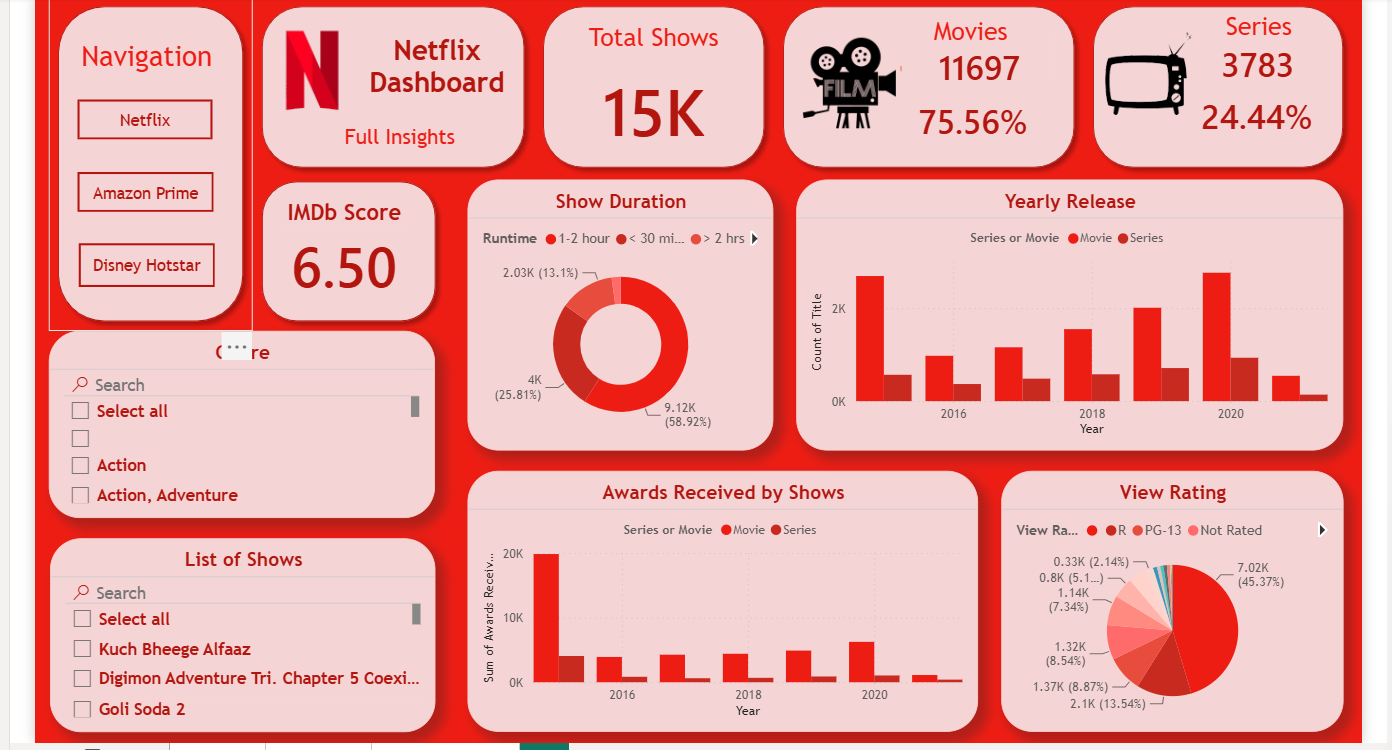

What the dashboard file says about the page in this screenshot:
{"tool":"powerbi","page":{"name":"Netflix","canvas":[1280,720],"ordinal":0},"visuals":[{"type":"pieChart","title":"View Rating","fields":{"Category":["netflix-rotten-tomatoes-metacritic-imdb.View Rating"],"Y":["CountNonNull(netflix-rotten-tomatoes-metacritic-imdb.Title)"]},"box":[932.1,457.6,330.3,251.9],"z":0},{"type":"clusteredColumnChart","title":"Awards Received by Shows","fields":{"Category":["netflix-rotten-tomatoes-metacritic-imdb.Netflix Release Date.Variation.Date Hierarchy.Year","netflix-rotten-tomatoes-metacritic-imdb.Netflix Release Date.Variation.Date Hierarchy.Quarter","netflix-rotten-tomatoes-metacritic-imdb.Netflix Release Date.Variation.Date Hierarchy.Month","netflix-rotten-tomatoes-metacritic-imdb.Netflix Release Date.Variation.Date Hierarchy.Day"],"Y":["Sum(netflix-rotten-tomatoes-metacritic-imdb.Awards Received)"],"Series":["netflix-rotten-tomatoes-metacritic-imdb.Series or Movie"]},"box":[417.1,457.6,492.6,251.9],"z":1000},{"type":"clusteredColumnChart","title":"Yearly Release","fields":{"Category":["netflix-rotten-tomatoes-metacritic-imdb.Netflix Release Date.Variation.Date Hierarchy.Year","netflix-rotten-tomatoes-metacritic-imdb.Netflix Release Date.Variation.Date Hierarchy.Quarter","netflix-rotten-tomatoes-metacritic-imdb.Netflix Release Date.Variation.Date Hierarchy.Month","netflix-rotten-tomatoes-metacritic-imdb.Netflix Release Date.Variation.Date Hierarchy.Day"],"Y":["CountNonNull(netflix-rotten-tomatoes-metacritic-imdb.Title)"],"Series":["netflix-rotten-tomatoes-metacritic-imdb.Series or Movie"]},"box":[734.8,176.3,527.6,261.7],"z":2000},{"type":"donutChart","title":"Show Duration","fields":{"Category":["netflix-rotten-tomatoes-metacritic-imdb.Runtime"],"Y":["CountNonNull(netflix-rotten-tomatoes-metacritic-imdb.Title)"]},"box":[417.1,176.3,295.3,261.7],"z":3000},{"type":"slicer","title":"List of Shows","fields":{"Values":["netflix-rotten-tomatoes-metacritic-imdb.Title"]},"box":[14,522,372.3,187.5],"z":4000},{"type":"slicer","title":"Genre","fields":{"Values":["netflix-rotten-tomatoes-metacritic-imdb.Genre"]},"box":[13.3,322.1,372.8,181],"z":5000},{"type":"shape","box":[481.4,0,231.6,173.7],"z":6000},{"type":"shape","box":[209.9,0,271.4,173.7],"z":7000},{"type":"shape","box":[713,0,299.2,173.7],"z":8000},{"type":"shape","box":[1012.2,0,259.4,173.7],"z":9000},{"type":"shape","box":[209.9,168.9,185.8,153.2],"z":10000},{"type":"shape","box":[13.3,0,196.6,322.1],"z":11000},{"type":"textbox","title":"Navigation","box":[35,42,145.6,33.6],"z":12000},{"type":"actionButton","box":[41,98.9,130.3,38.6],"z":13000},{"type":"actionButton","box":[41,168.9,131.5,38.6],"z":14000},{"type":"actionButton","box":[42.2,237.7,131.5,42.2],"z":15000},{"type":"cardVisual","fields":{"Data":["netflix-rotten-tomatoes-metacritic-imdb.Movies Net"]},"box":[854.2,50.7,139.9,66.4],"z":16000},{"type":"cardVisual","fields":{"Data":["netflix-rotten-tomatoes-metacritic-imdb.Shows Netflix"]},"box":[526,59.1,142.4,96.5],"z":17000},{"type":"cardVisual","fields":{"Data":["netflix-rotten-tomatoes-metacritic-imdb.Series Net"]},"box":[1118.4,38.6,126.7,71.2],"z":18000},{"type":"cardVisual","fields":{"Data":["Avg(netflix-rotten-tomatoes-metacritic-imdb.IMDb Score)"]},"box":[230.4,212.3,137.5,90.5],"z":19000},{"type":"textbox","title":"IMDb Score","box":[234,195.4,129.1,26.5],"z":20000},{"type":"textbox","box":[306.4,31.4,162.9,106.2],"z":21000},{"type":"textbox","title":"Full Insights","box":[278.8,123.5,146.7,25.7],"z":22000},{"type":"textbox","title":"Total Shows","box":[518.8,25.3,156.8,32.6],"z":23000},{"type":"textbox","title":"Movies","box":[863.8,19.3,121.9,37.4],"z":24000},{"type":"textbox","title":"Series","box":[1126.8,14.5,108.6,22.9],"z":25000},{"type":"cardVisual","fields":{"Data":["netflix-rotten-tomatoes-metacritic-imdb.%movies net"]},"box":[854.2,98.9,146,70],"z":26000},{"type":"cardVisual","fields":{"Data":["netflix-rotten-tomatoes-metacritic-imdb.%series net"]},"box":[1126.8,85.7,153.2,70],"z":27000},{"type":"image","box":[216,37.4,98.9,80.8],"z":28000},{"type":"image","box":[728.7,30.2,125.5,112.2],"z":29000},{"type":"image","box":[1020.6,25.3,135.1,108.6],"z":30000}]}

Visuals, with their boxes on the page's 1280x720 design canvas (x1, y1, x2, y2). These are canvas units, not pixel positions in the 1392x750 screenshot, which may show the page scaled, cropped or inside an application window:
"View Rating" pieChart: bbox=(932, 458, 1262, 710)
"Awards Received by Shows" clusteredColumnChart: bbox=(417, 458, 910, 710)
"Yearly Release" clusteredColumnChart: bbox=(735, 176, 1262, 438)
"Show Duration" donutChart: bbox=(417, 176, 712, 438)
"List of Shows" slicer: bbox=(14, 522, 386, 710)
"Genre" slicer: bbox=(13, 322, 386, 503)
shape: bbox=(481, 0, 713, 174)
shape: bbox=(210, 0, 481, 174)
shape: bbox=(713, 0, 1012, 174)
shape: bbox=(1012, 0, 1272, 174)
shape: bbox=(210, 169, 396, 322)
shape: bbox=(13, 0, 210, 322)
"Navigation" textbox: bbox=(35, 42, 181, 76)
actionButton: bbox=(41, 99, 171, 138)
actionButton: bbox=(41, 169, 172, 208)
actionButton: bbox=(42, 238, 174, 280)
cardVisual - netflix-rotten-tomatoes-metacritic-imdb.Movies Net: bbox=(854, 51, 994, 117)
cardVisual - netflix-rotten-tomatoes-metacritic-imdb.Shows Netflix: bbox=(526, 59, 668, 156)
cardVisual - netflix-rotten-tomatoes-metacritic-imdb.Series Net: bbox=(1118, 39, 1245, 110)
cardVisual - Avg(netflix-rotten-tomatoes-metacritic-imdb.IMDb Score): bbox=(230, 212, 368, 303)
"IMDb Score" textbox: bbox=(234, 195, 363, 222)
textbox: bbox=(306, 31, 469, 138)
"Full Insights" textbox: bbox=(279, 124, 426, 149)
"Total Shows" textbox: bbox=(519, 25, 676, 58)
"Movies" textbox: bbox=(864, 19, 986, 57)
"Series" textbox: bbox=(1127, 14, 1235, 37)
cardVisual - netflix-rotten-tomatoes-metacritic-imdb.%movies net: bbox=(854, 99, 1000, 169)
cardVisual - netflix-rotten-tomatoes-metacritic-imdb.%series net: bbox=(1127, 86, 1280, 156)
image: bbox=(216, 37, 315, 118)
image: bbox=(729, 30, 854, 142)
image: bbox=(1021, 25, 1156, 134)
